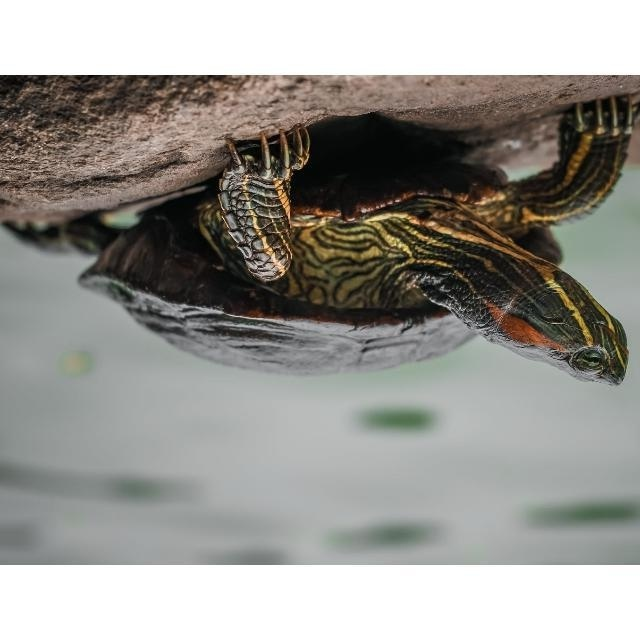turtle: (7, 98, 630, 388)
